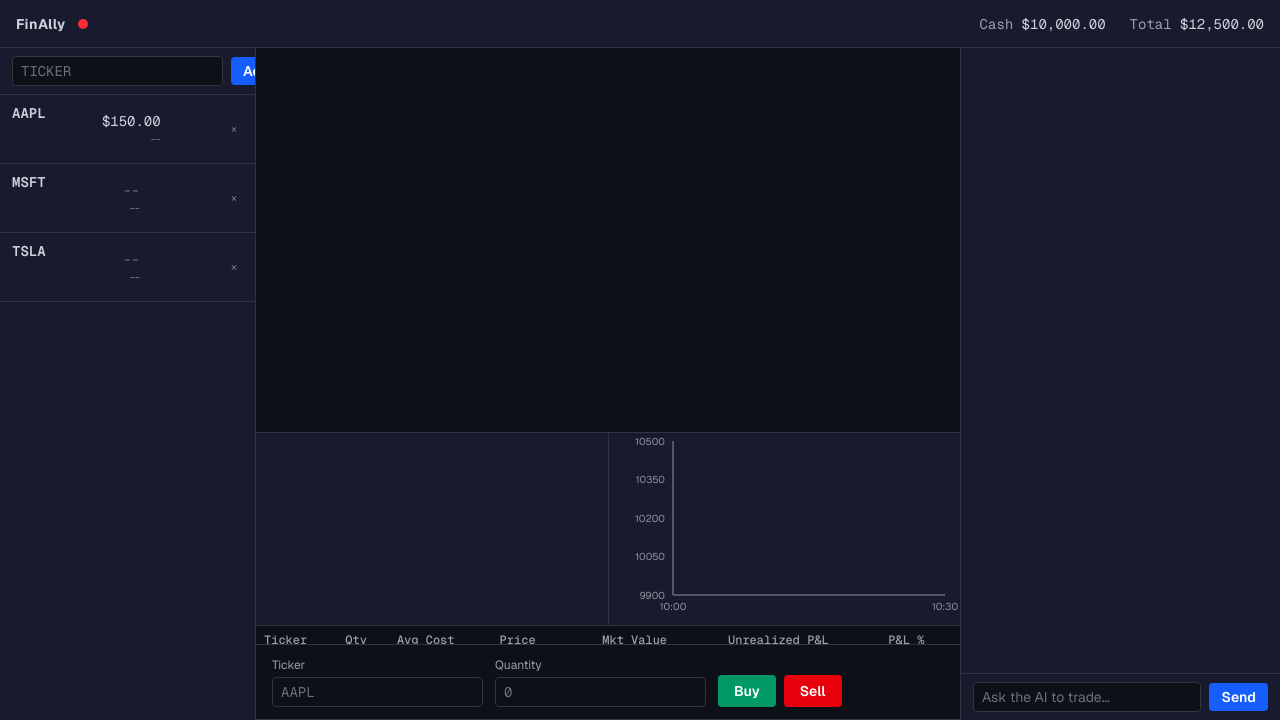
it: TerminalApp › Test 5: ticker click -> chart re-seed (selectedTicker set) + trade click-through updates portfolio
Expected: the text "$12,500.00" is shown, [1180,14,1264,32]
Click the text "AAPL": x=29, y=113 [12,103,46,123]
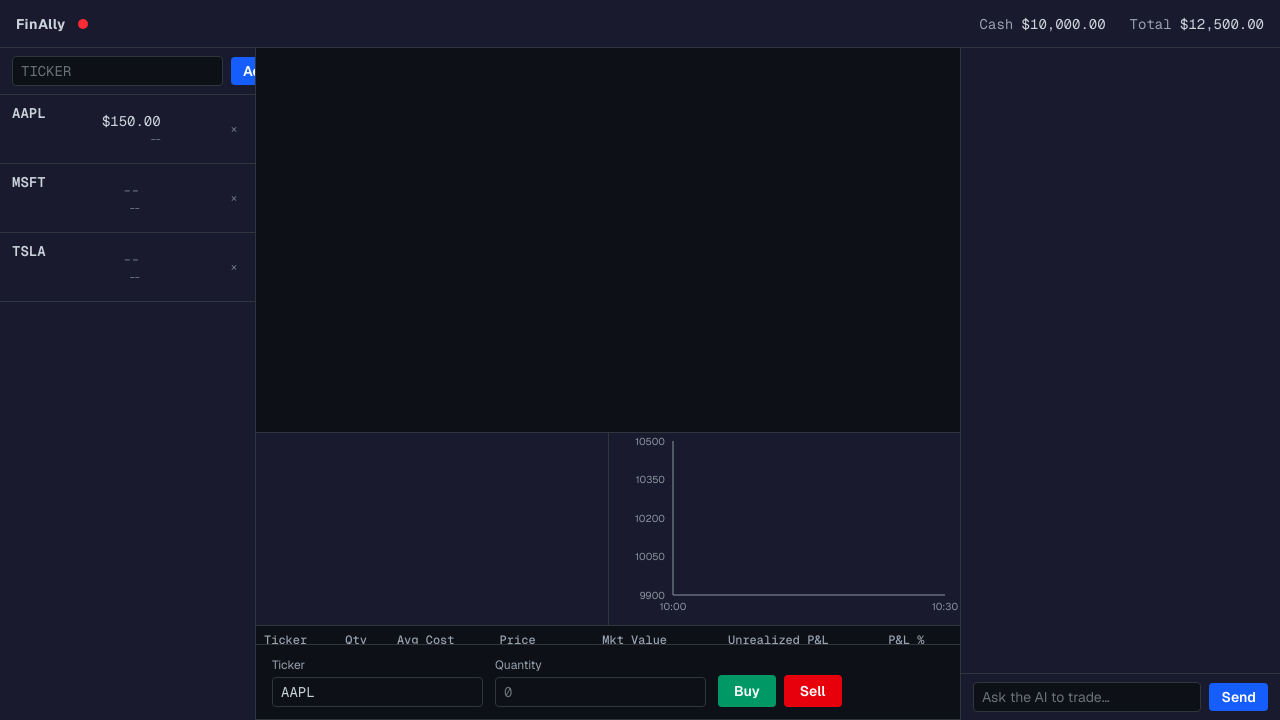
Expected: the field labelled "Ticker" holds "AAPL", [272,677,483,707]
In the number field labelled "Quantity": x=600, y=692 [495,677,706,707], type "5"
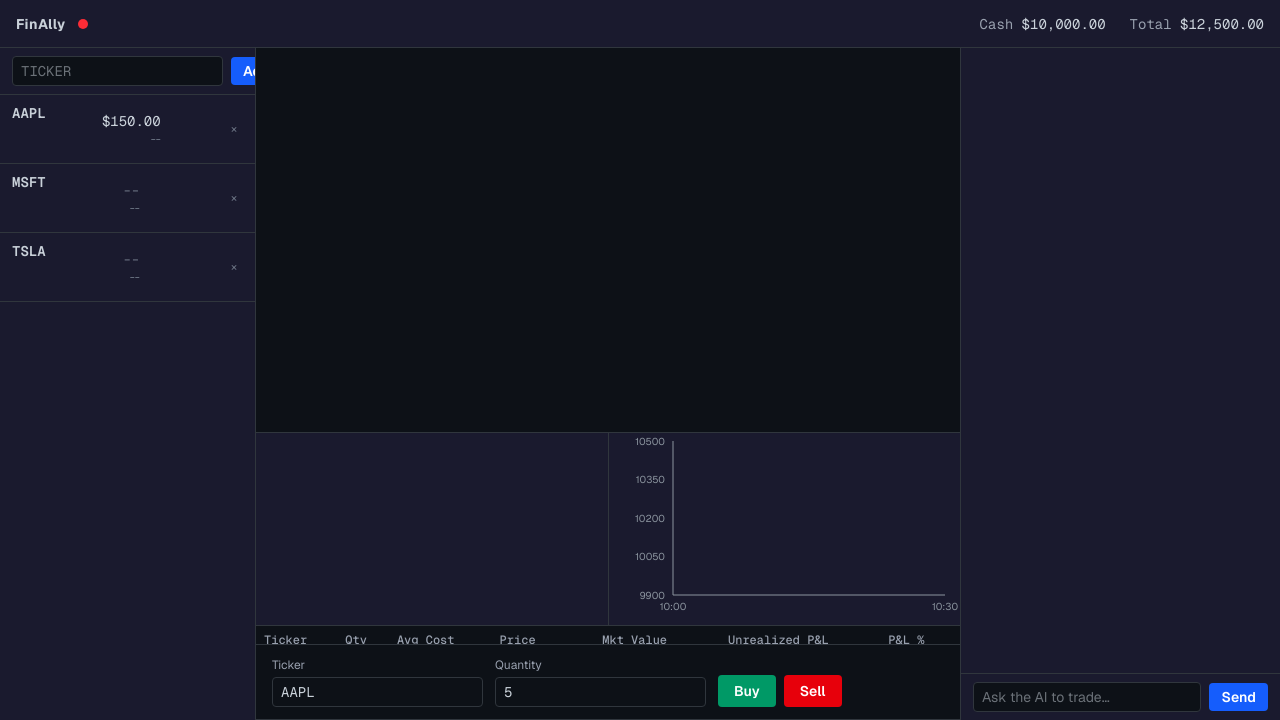
Click the button "Buy": x=747, y=691 [718,675,776,707]
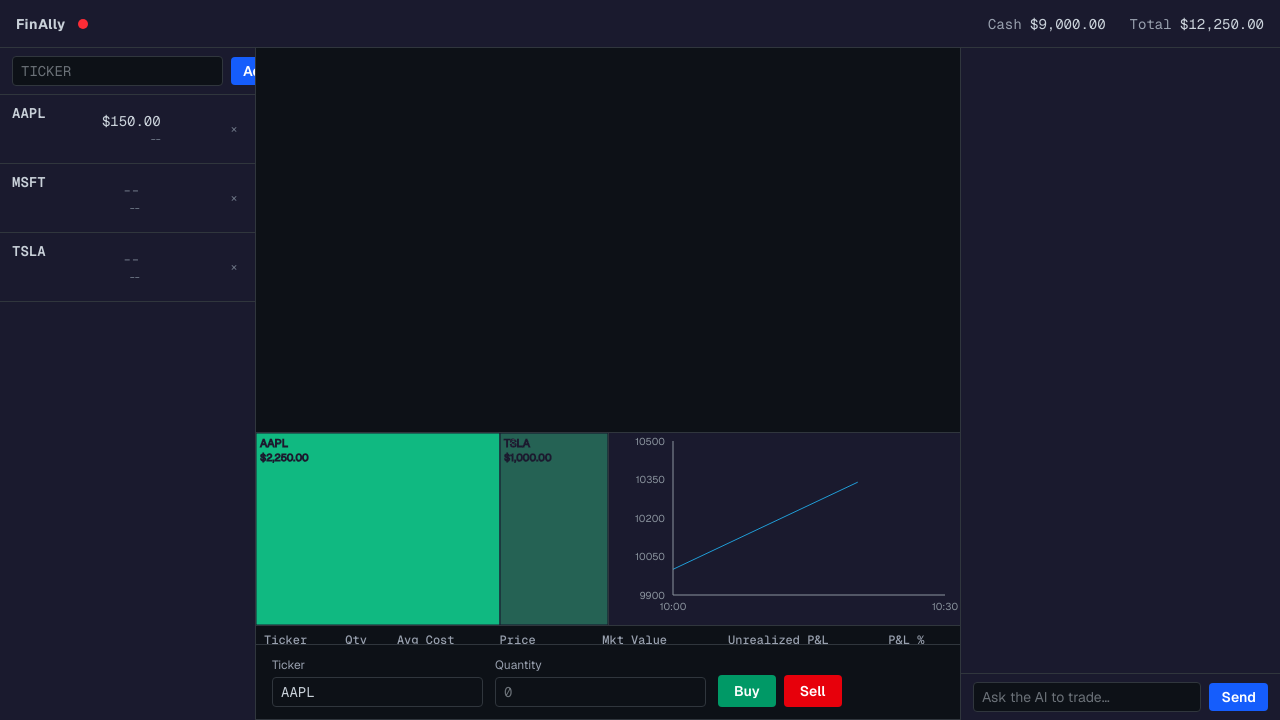
Expected: the text "$9,000.00" is shown, [1030,14,1106,32]
